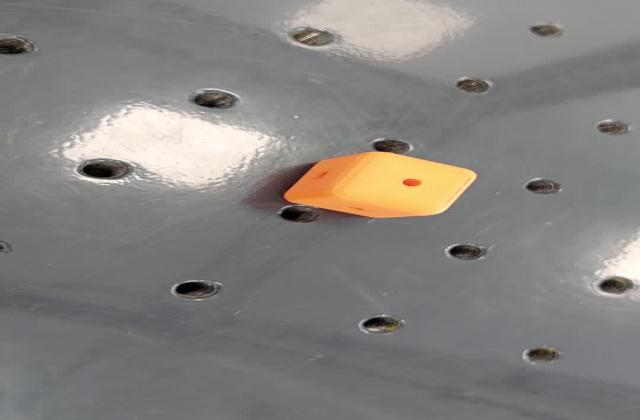cube: (274, 148, 483, 221)
